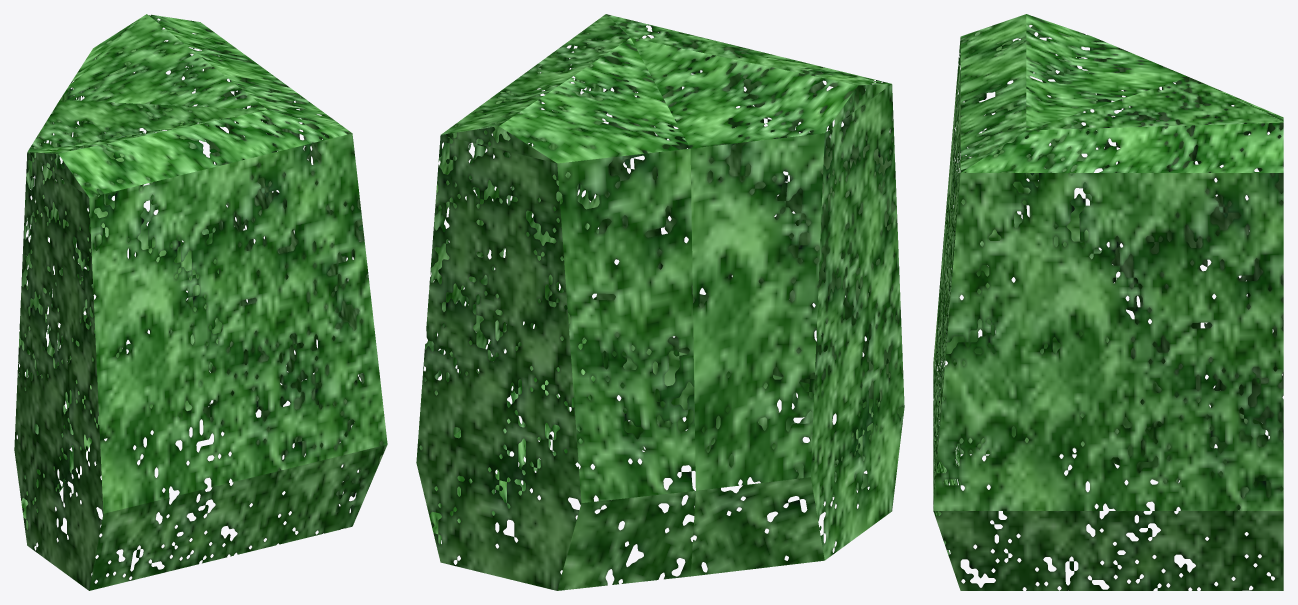
Rendered from bush_long_square_corner_filled_spring.fbx.
3 views of the same model, side by side, from view 1: azimuth 30°, elevation 25°; view 2: azimuth 150°, elevation 25°; view 3: azimuth 270°, elevation 25° (orthographic). The views are drawn at different scales.
Parts seen in each view (by area): view 1: bush_long_square_corner_filled_spring; view 2: bush_long_square_corner_filled_spring; view 3: bush_long_square_corner_filled_spring.
Part boxes in pixels (bbox=[...]): bush_long_square_corner_filled_spring: bbox=[14, 14, 387, 590]; bush_long_square_corner_filled_spring: bbox=[416, 14, 904, 590]; bush_long_square_corner_filled_spring: bbox=[933, 14, 1283, 590].
Size of the model in its own units: 135 by 188 by 135.
1 material, 1 textured.
